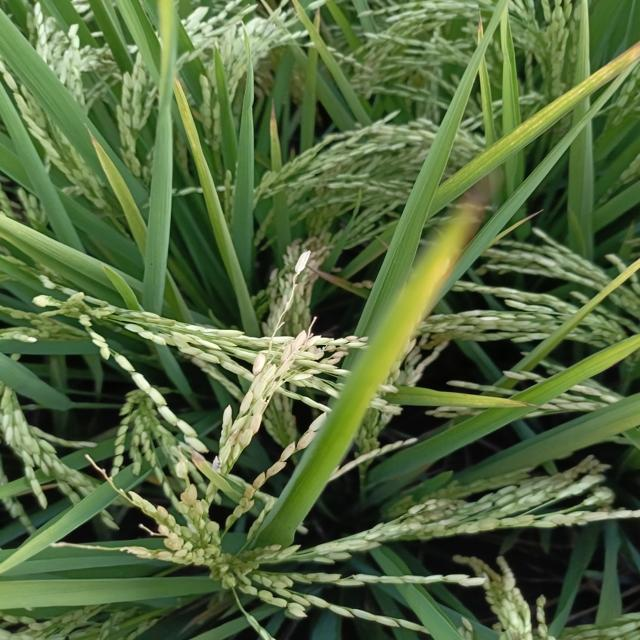Brown spot: (79, 121, 106, 152), (264, 94, 283, 136)
